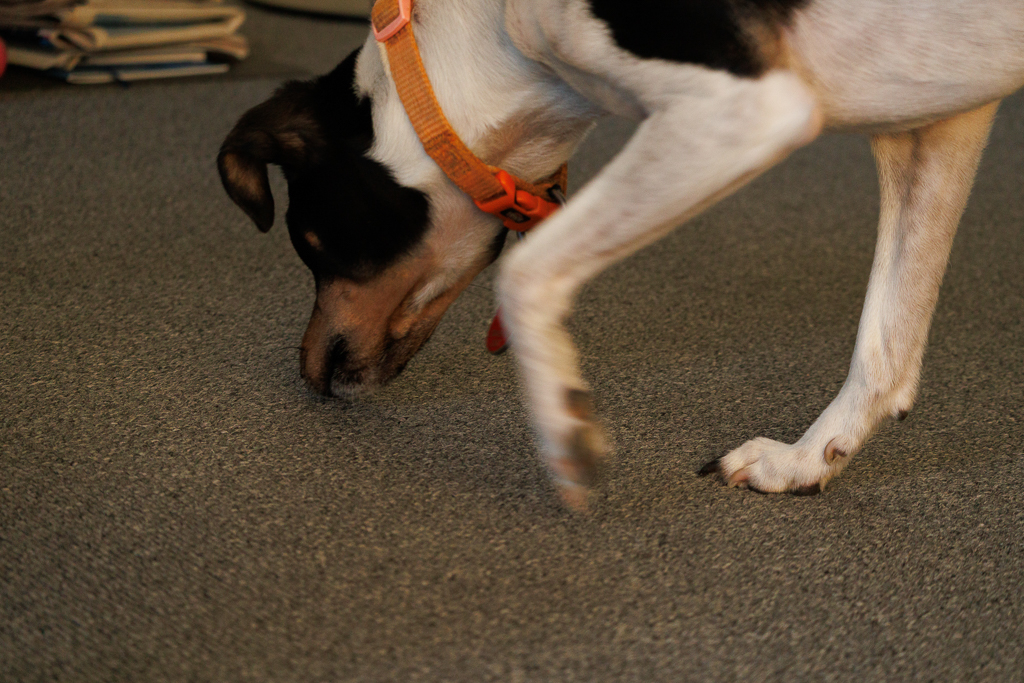Dog: (207, 0, 1024, 523)
